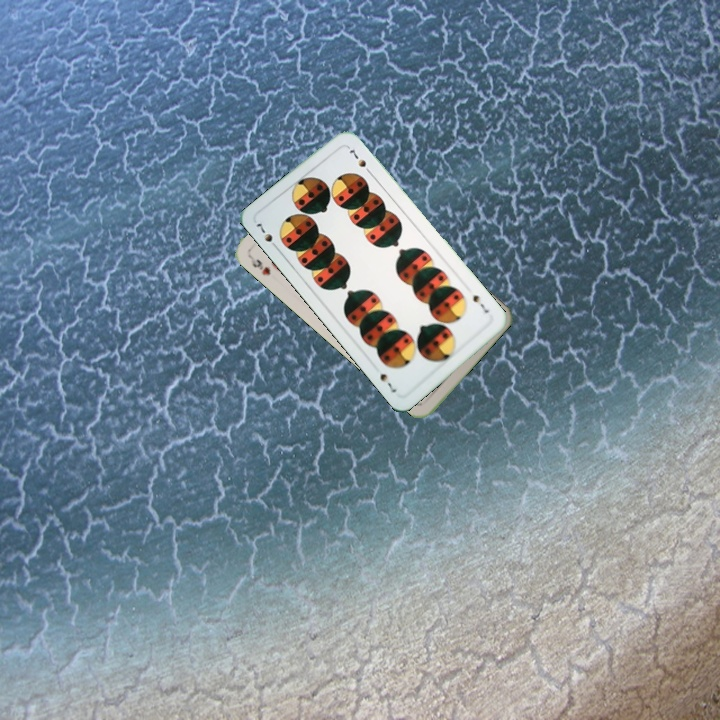H9: (245, 251, 273, 278)
S7: (252, 219, 281, 253), (469, 291, 492, 316)
